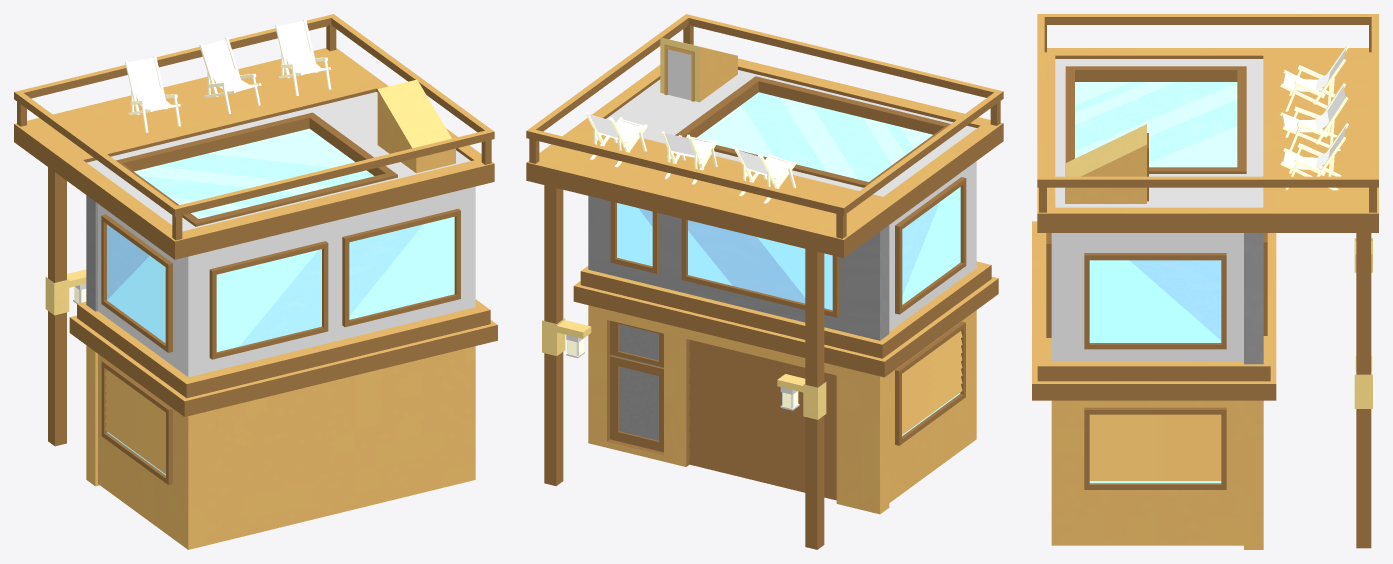
Rendered from dwelling modern.002.glb.
3 renders of one model, left to right at view 1: azimuth 30°, elevation 25°; view 2: azimuth 150°, elevation 25°; view 3: azimuth 270°, elevation 25°, orthographic. The views are drawn at different scales.
Visible parts, largest first — view 1: dwelling modern.002(Clone); view 2: dwelling modern.002(Clone); view 3: dwelling modern.002(Clone).
Part boxes in pixels (left/top/right/bottom): dwelling modern.002(Clone): left=14, top=14, right=497, bottom=549; dwelling modern.002(Clone): left=526, top=14, right=1003, bottom=549; dwelling modern.002(Clone): left=1032, top=14, right=1378, bottom=549.
Size of the model in its own units: 6.41 by 7.16 by 5.66.
1 material, 1 textured.
